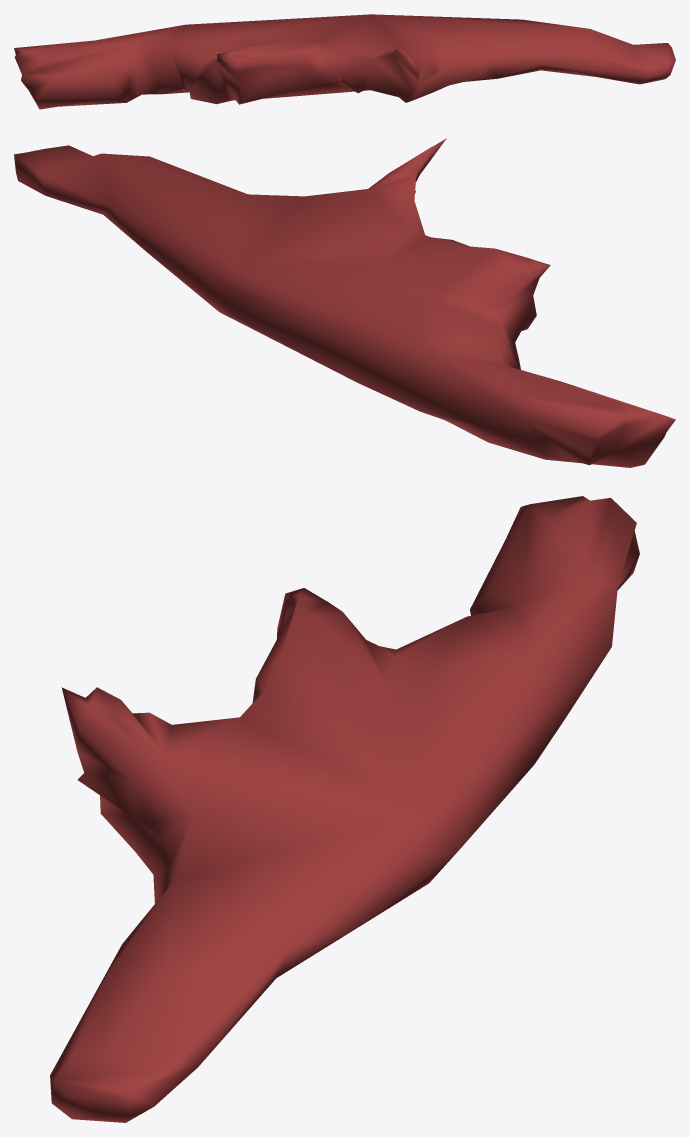
The model's file is transverse-head-of-adductor-hallucis-r.glb.
The picture shows the model from 3 angles, top to bottom: view 1: azimuth 30°, elevation 25°; view 2: azimuth 150°, elevation 25°; view 3: azimuth 270°, elevation 25°; orthographic projection. The views are drawn at different scales.
Parts seen in each view (by area): view 1: Transverse head of adductor hallucis.r; view 2: Transverse head of adductor hallucis.r; view 3: Transverse head of adductor hallucis.r.
Part boxes in pixels (x1,y1,x2,y2): Transverse head of adductor hallucis.r: (14, 14, 675, 109); Transverse head of adductor hallucis.r: (14, 138, 675, 467); Transverse head of adductor hallucis.r: (50, 496, 639, 1122).
Bounding box in the file's own units: 0.0482 × 0.00744 × 0.0224.
